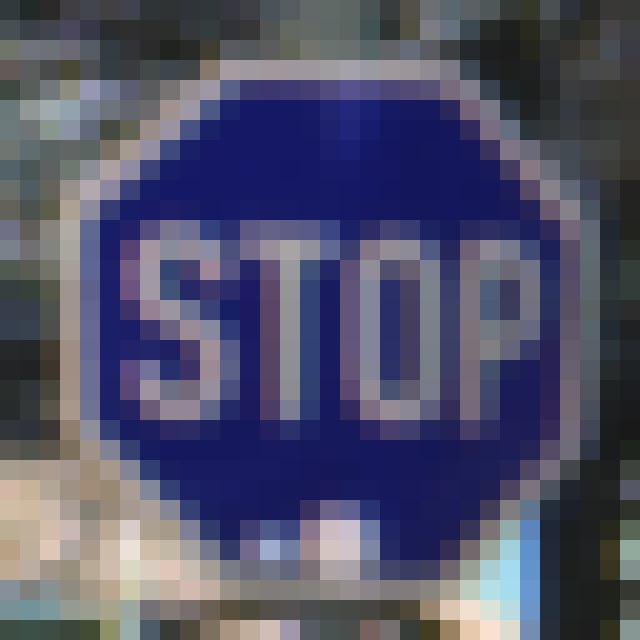STOP: (86, 78, 593, 594)
